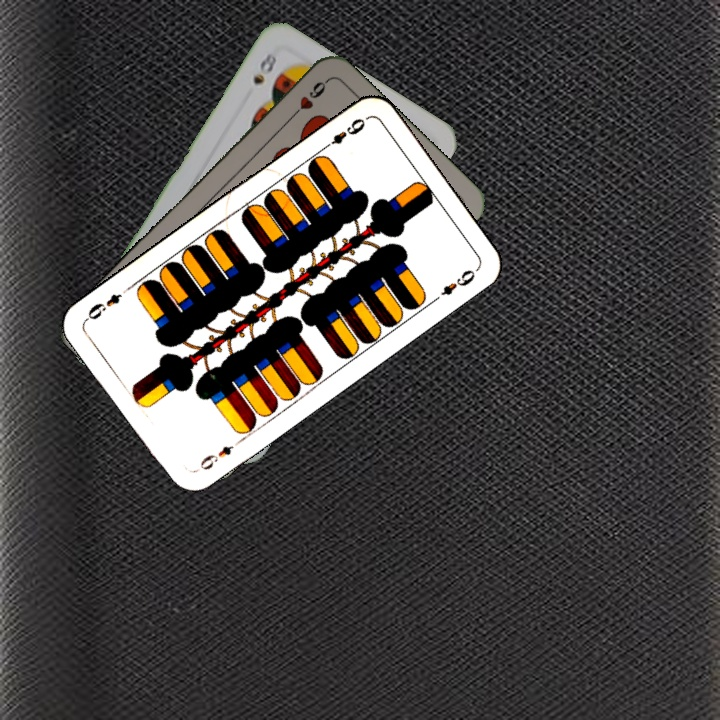E9: (318, 114, 368, 153), (192, 441, 236, 474)
H9: (285, 76, 331, 123)
S8: (248, 47, 283, 88)
